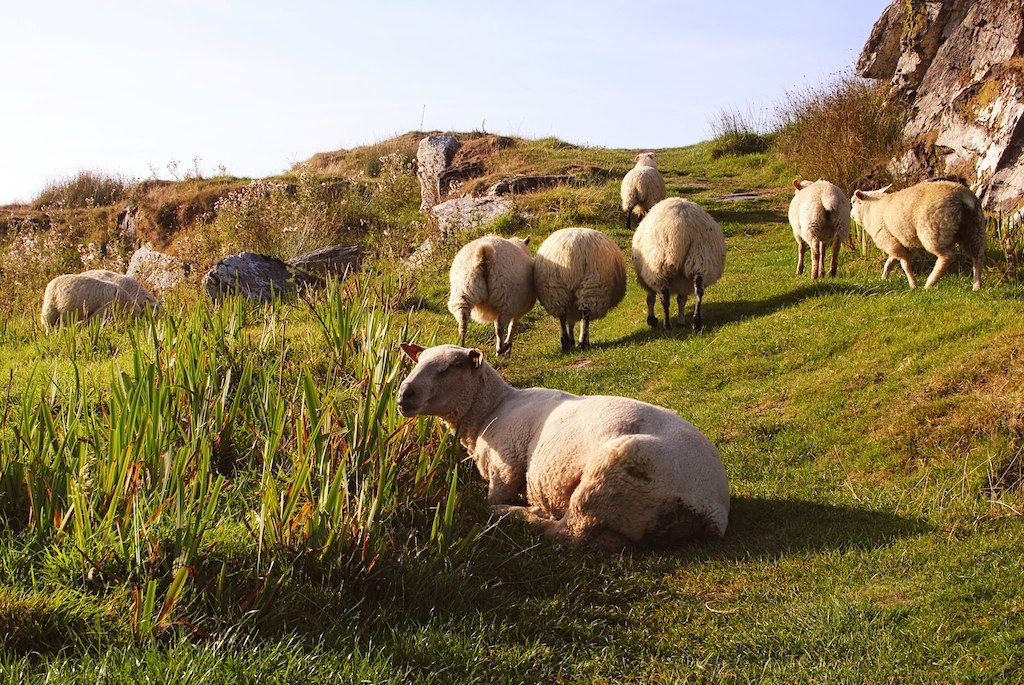sheep: (851, 167, 984, 289), (629, 195, 730, 334), (535, 225, 629, 351), (449, 231, 529, 353), (784, 177, 851, 274)
